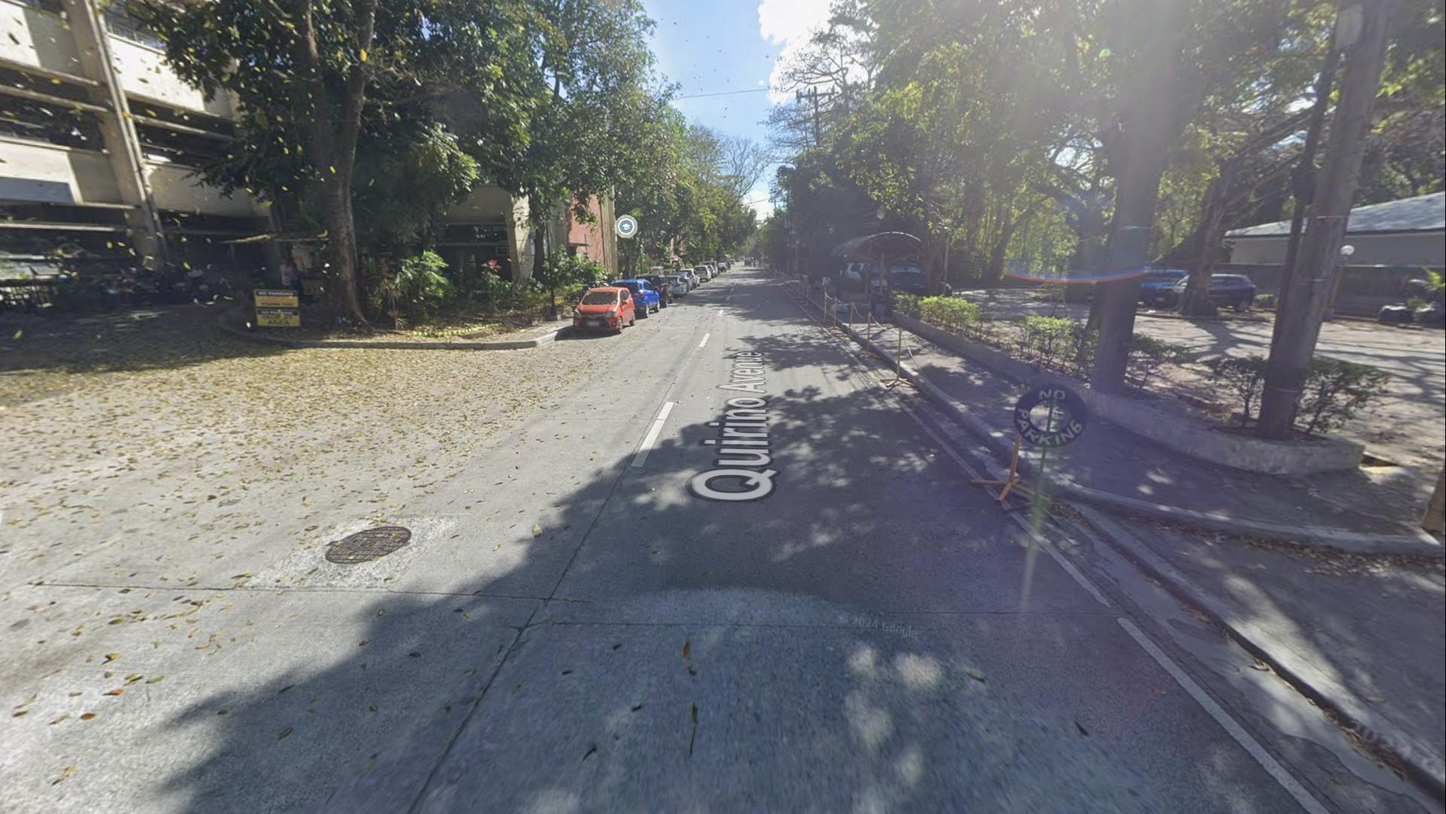pedestrian: (820, 268, 832, 301), (807, 268, 816, 297), (769, 260, 774, 270), (758, 259, 762, 268), (753, 259, 756, 269)
